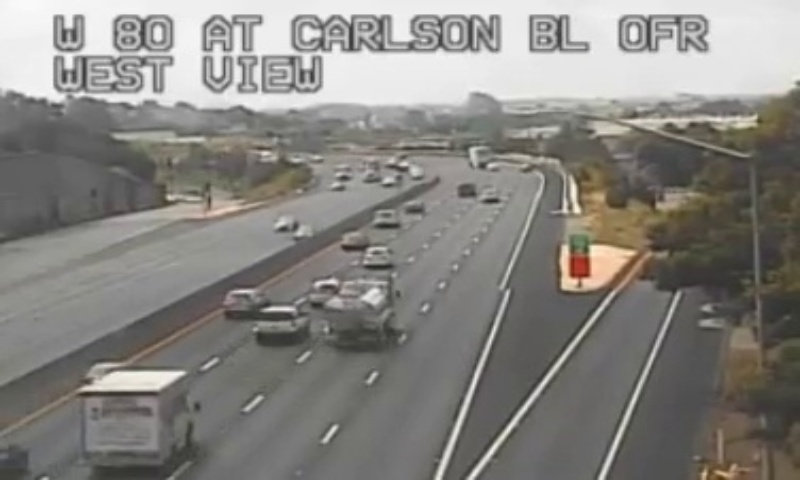car: (255, 306, 308, 339), (223, 288, 265, 313), (361, 247, 393, 267)
small-truck: (80, 369, 191, 469)
tank-truck: (327, 279, 391, 346)
